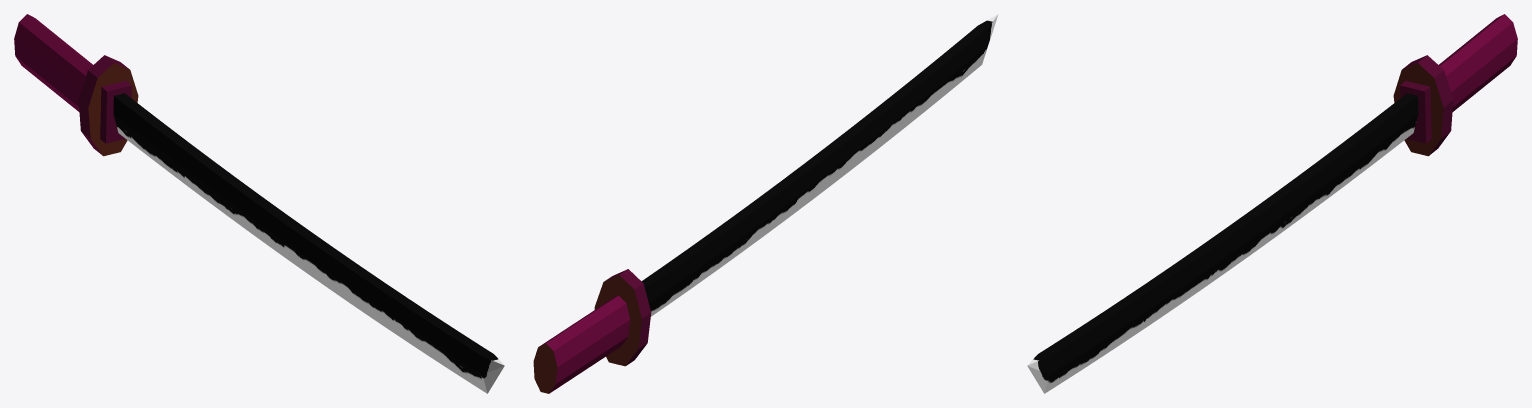
Rendered from katana.obj.
The picture shows the model from 3 angles, left to right: view 1: azimuth 30°, elevation 25°; view 2: azimuth 150°, elevation 25°; view 3: azimuth 330°, elevation 25°; orthographic projection. The views are drawn at different scales.
Visible parts, largest first — view 1: Katana; view 2: Katana; view 3: Katana.
Boxes of the visible parts, box(x1,y1,x2,y2) form: Katana: box(14, 14, 504, 393); Katana: box(533, 14, 998, 393); Katana: box(1027, 14, 1517, 393).
Size of the model in its own units: 0.1231 by 0.2197 by 2.04.
